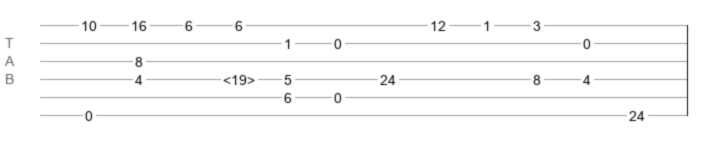0: (85, 108, 93, 118), (334, 90, 342, 100), (334, 36, 342, 46), (583, 36, 591, 46)
1: (284, 36, 292, 46), (483, 18, 491, 28)
10: (81, 18, 97, 28)
12: (430, 18, 446, 28)
16: (131, 18, 147, 28)
24: (380, 72, 396, 82), (629, 108, 645, 118)
3: (533, 18, 541, 28)
4: (135, 72, 143, 82), (583, 72, 591, 82)
5: (284, 72, 292, 82)
6: (185, 18, 193, 28), (235, 18, 243, 28), (284, 90, 292, 100)
8: (135, 54, 143, 64), (533, 72, 541, 82)
harmonic: (223, 72, 255, 82)
